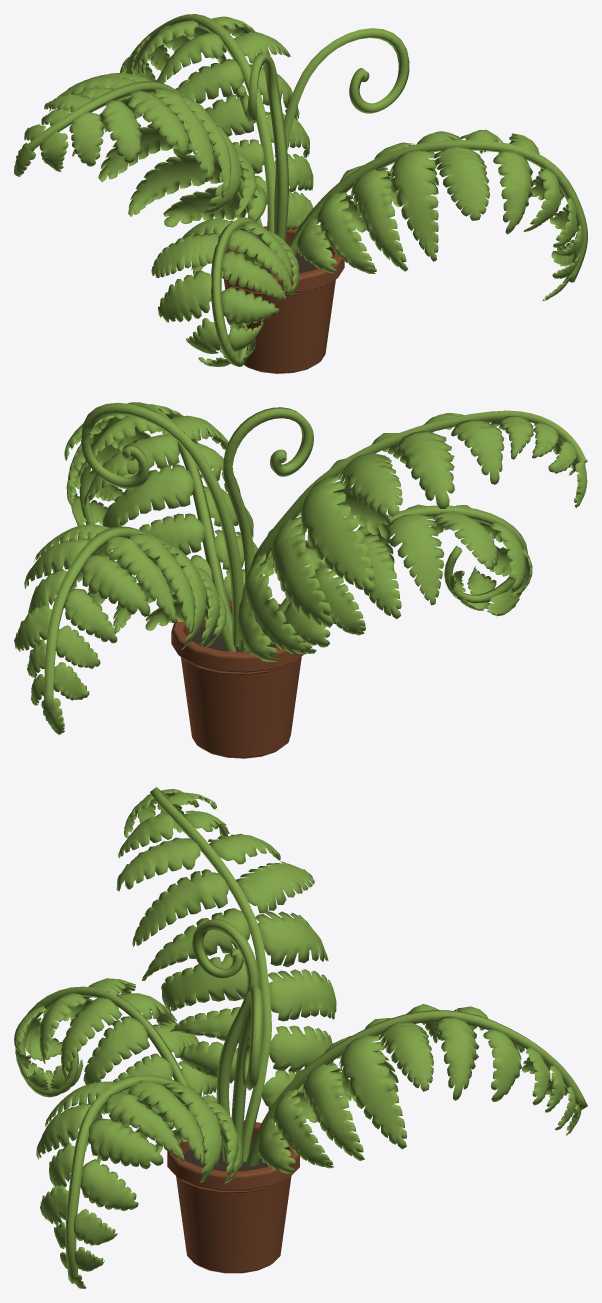
File: Bracken.glb
The picture shows the model from 3 angles, top to bottom: view 1: azimuth 30°, elevation 25°; view 2: azimuth 150°, elevation 25°; view 3: azimuth 270°, elevation 25°; orthographic projection. The views are drawn at different scales.
Parts seen in each view (by area): view 1: Potted Plant - Bracken; view 2: Potted Plant - Bracken; view 3: Potted Plant - Bracken.
Boxes of the visible parts, <box> form: Potted Plant - Bracken: <box>14,14,587,373</box>; Potted Plant - Bracken: <box>14,402,587,758</box>; Potted Plant - Bracken: <box>14,787,587,1288</box>.
Size of the model in its own units: 1 by 0.615 by 0.9236.
